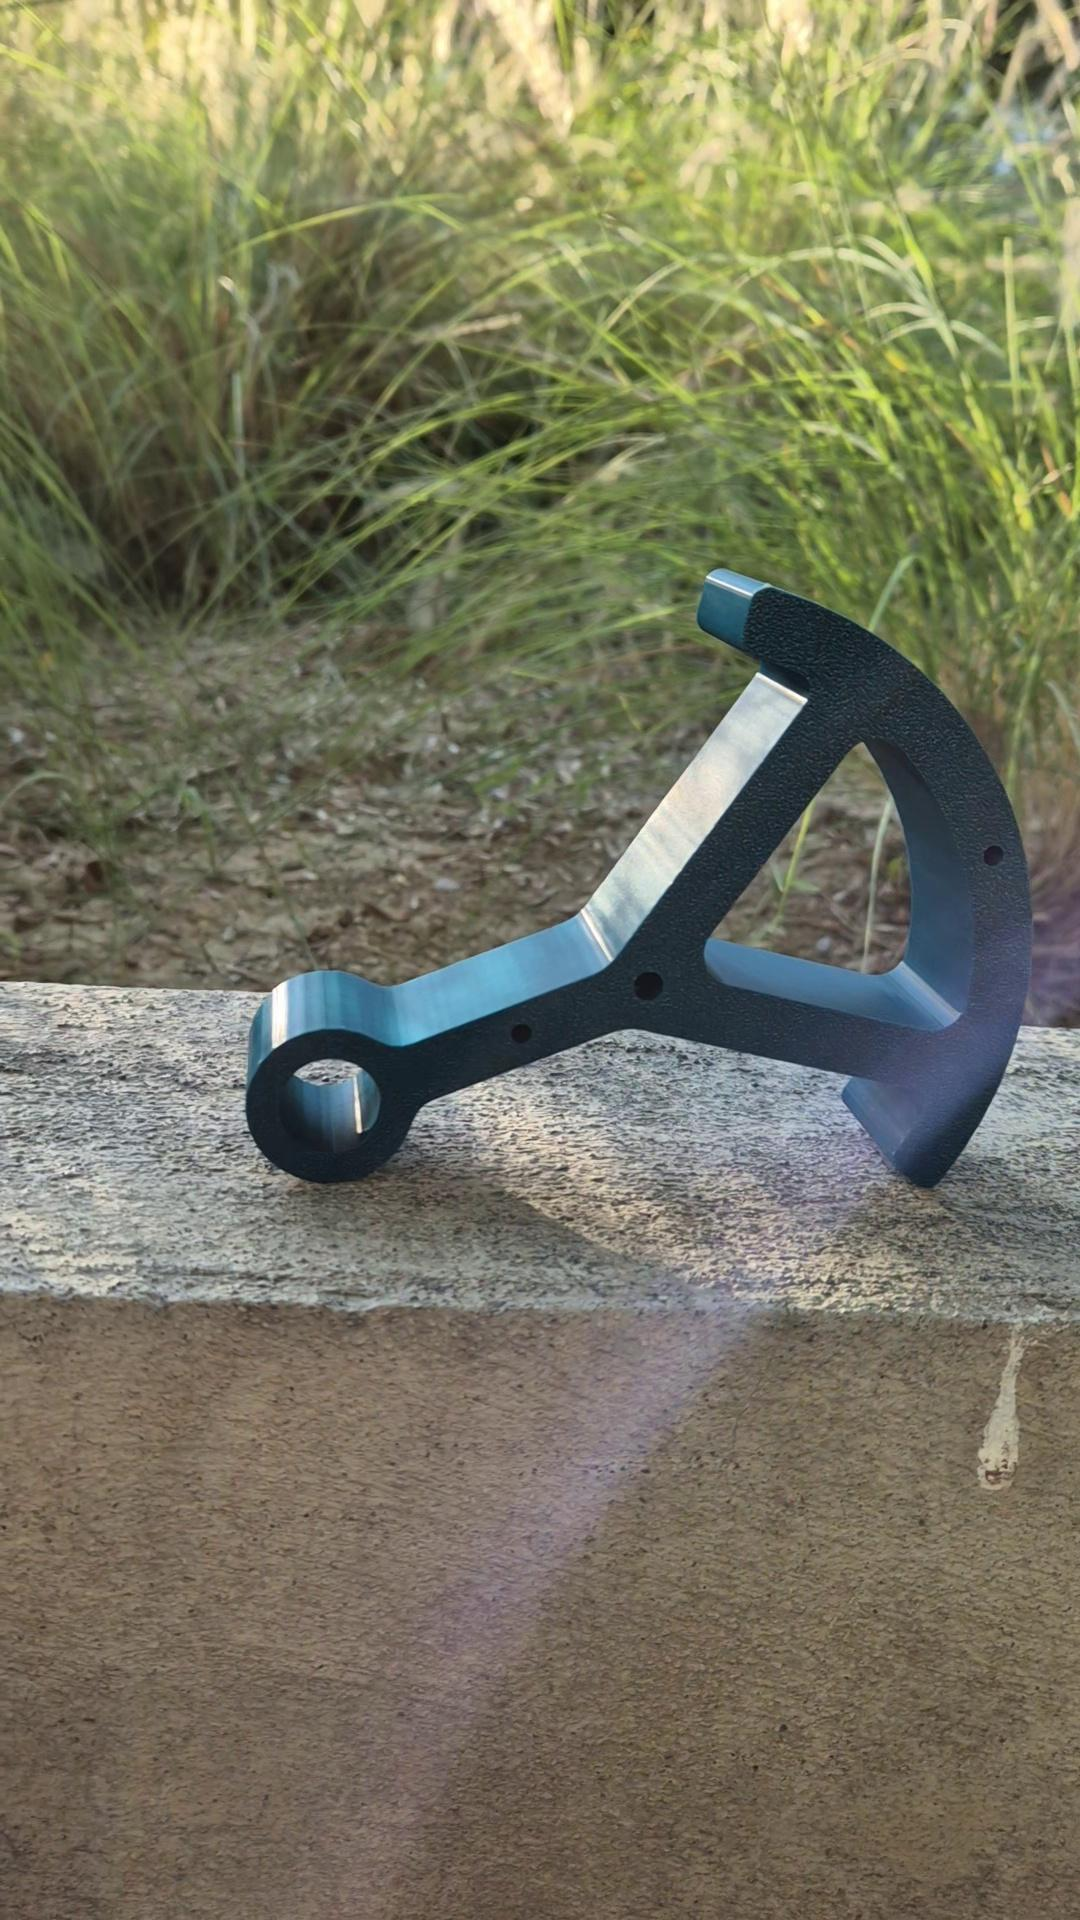Paddles: (237, 563, 1036, 1195)
